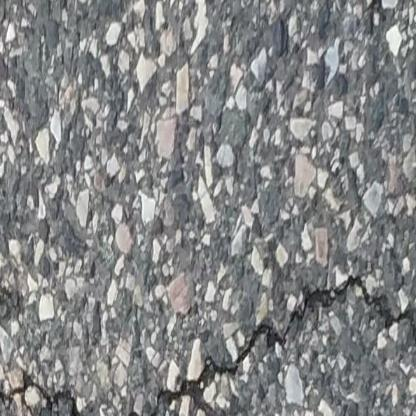Cracks: (0, 273, 416, 416), (0, 298, 8, 319)
